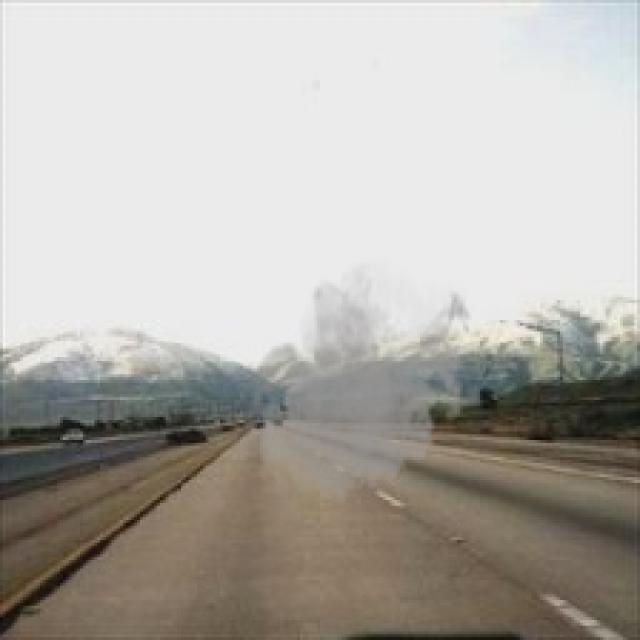smoke: (234, 254, 477, 512)
